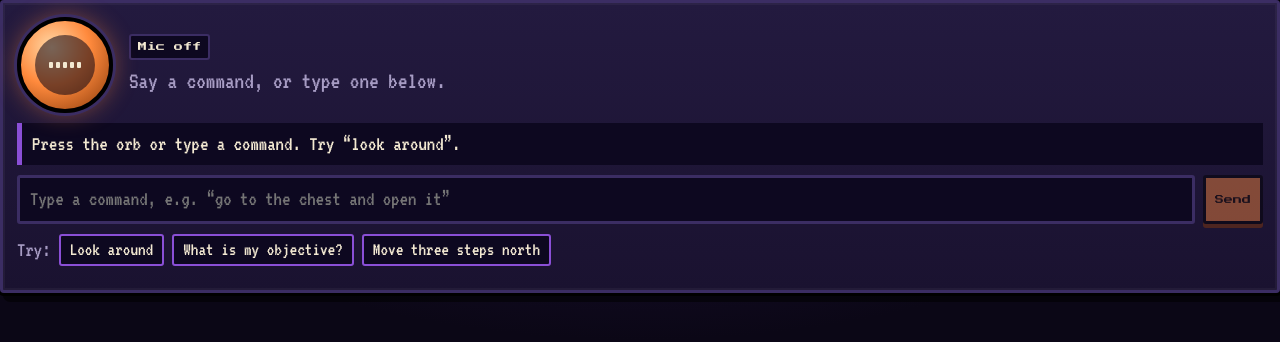
Test: VoiceConsole › runs typed commands through the pipeline and shows the interpretation
The width and height of the screenshot is (1280, 342).
Type "Move two steps east" into the field labelled "Type a command" at [606, 199], box [17, 175, 1195, 224]
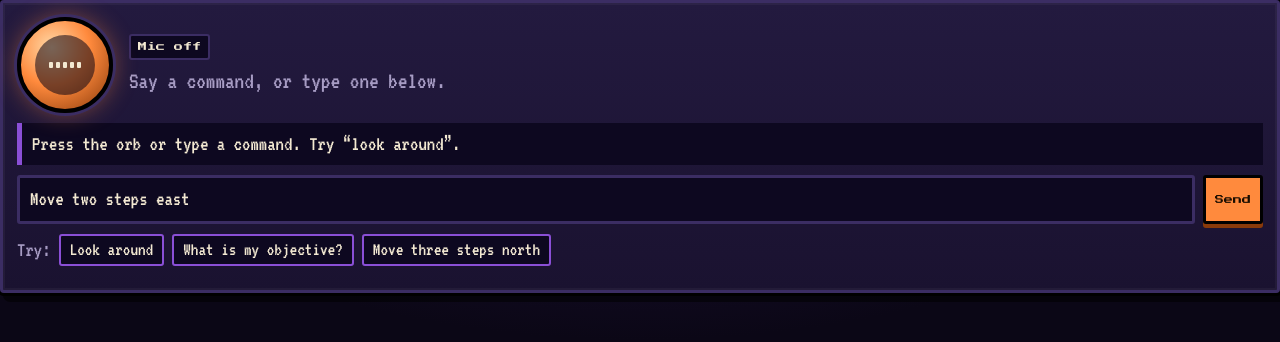
Click the button "Send" at [1233, 199], box [1203, 175, 1263, 224]
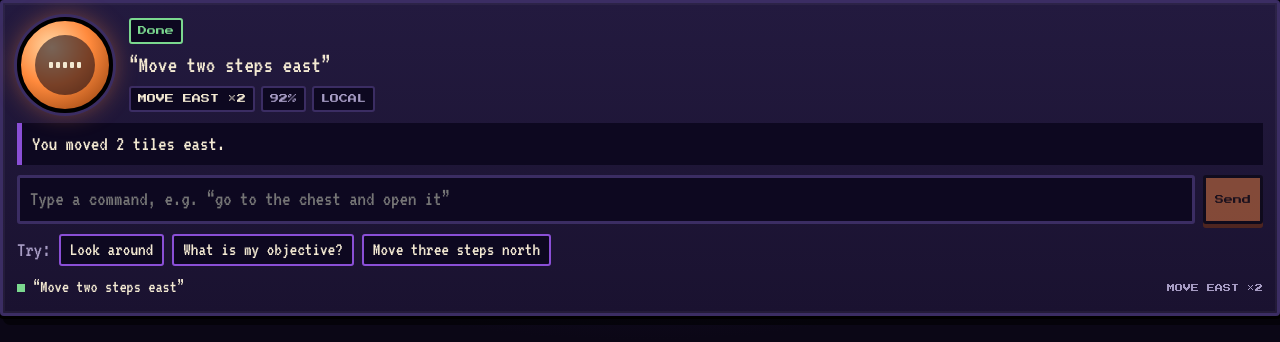
Now the text with test id "heard" shows "Move two steps east", box [139, 53, 321, 77]
Now the element with test id "interp" shows "MOVE EAST ×2", box [138, 94, 246, 103]
Now the element with test id "interp" shows "LOCAL", box [321, 94, 366, 103]
